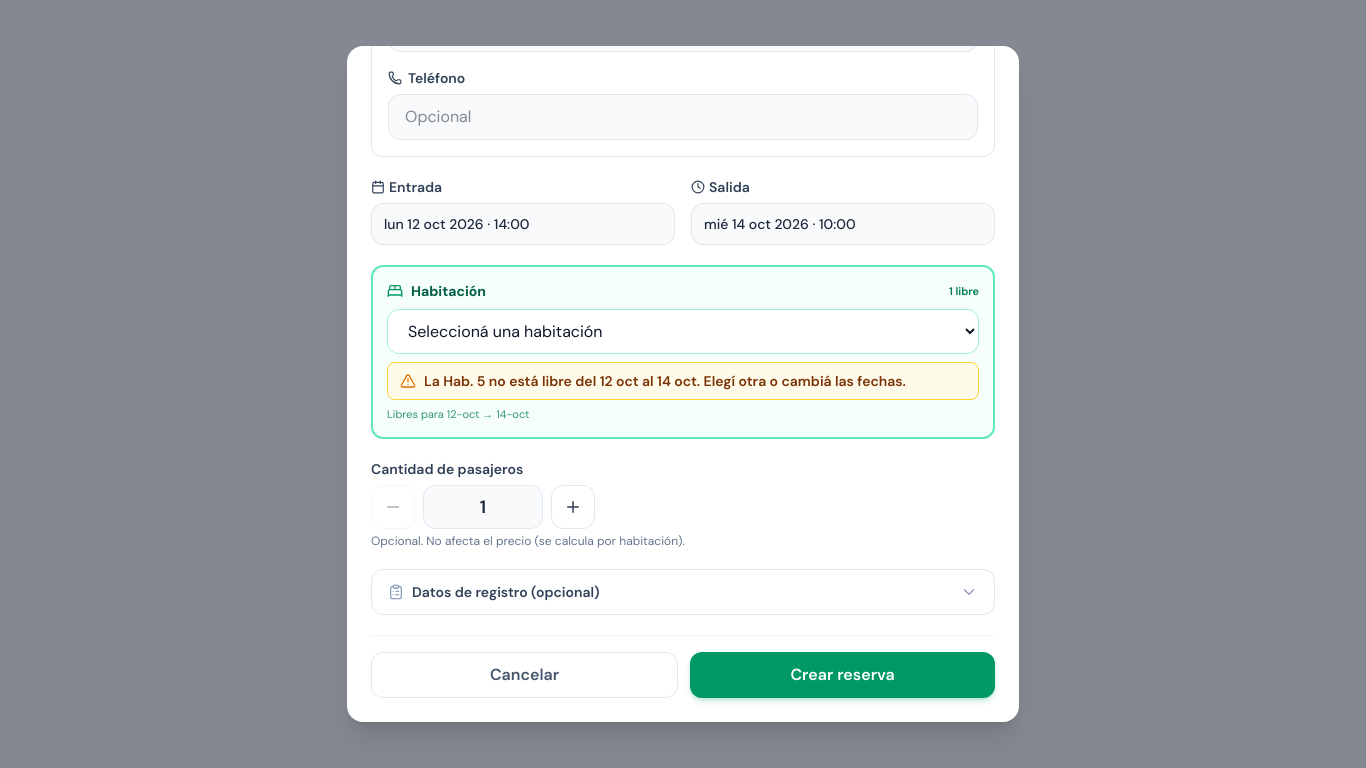
Test: NewReservationModal: aviso cuando la habitación elegida deja de estar libre › entrando desde el calendario con la Hab. 5 ocupada en esas fechas: aviso junto al selector y selector vacío
(page scrolled)
Expected: the text "La Hab. 5 no está libre del 12 oct al 14 oct. Elegí otra o cambiá las fechas." is shown, left=387, top=362, right=979, bottom=400
Expected: the dropdown labelled "Habitación" shows "Seleccioná una habitación", left=387, top=309, right=979, bottom=354
Step 1. Click the submit button → (842, 675), box left=690, top=652, right=995, bottom=698
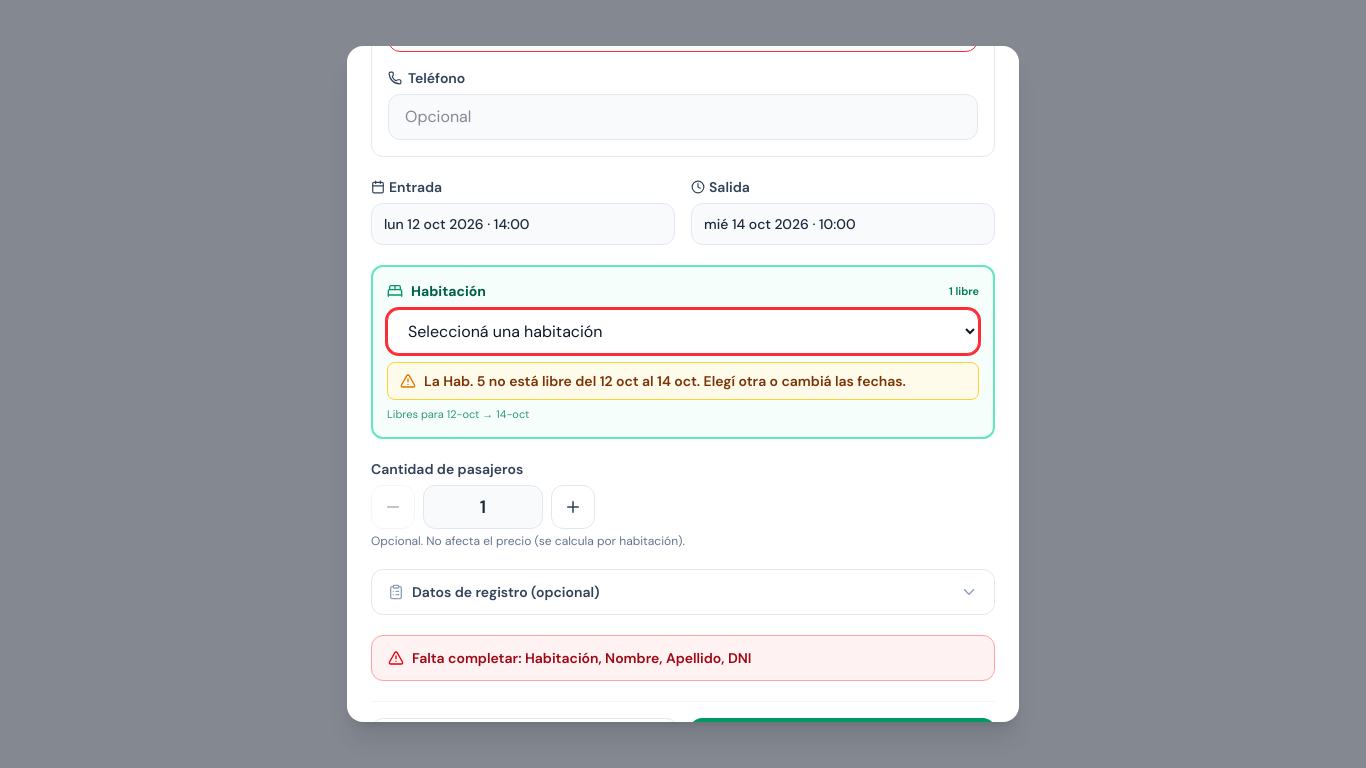
Expected: the text "Falta completar: Habitación, Nombre, Apellido, DNI" is shown, left=412, top=648, right=751, bottom=668
